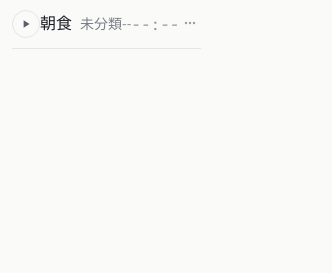
Test: TaskRow（画面定義書01 §3.3: 1タスク=1行のセルとその入口） › 行メニュー（O-7 / O-8 / O-12） › ルーチン由来のタスクはルーチン化を非活性で見せる（§4.1 / FB-30）
Step 1. Click the button named "行メニュー" → coordinates (190, 22), box 179,12 -> 201,34
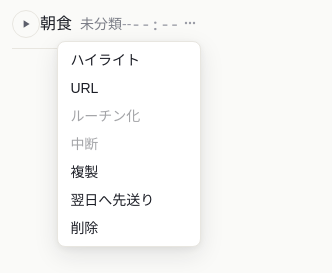
Result: the button "ルーチン化" is disabled at 58,102 -> 200,130
